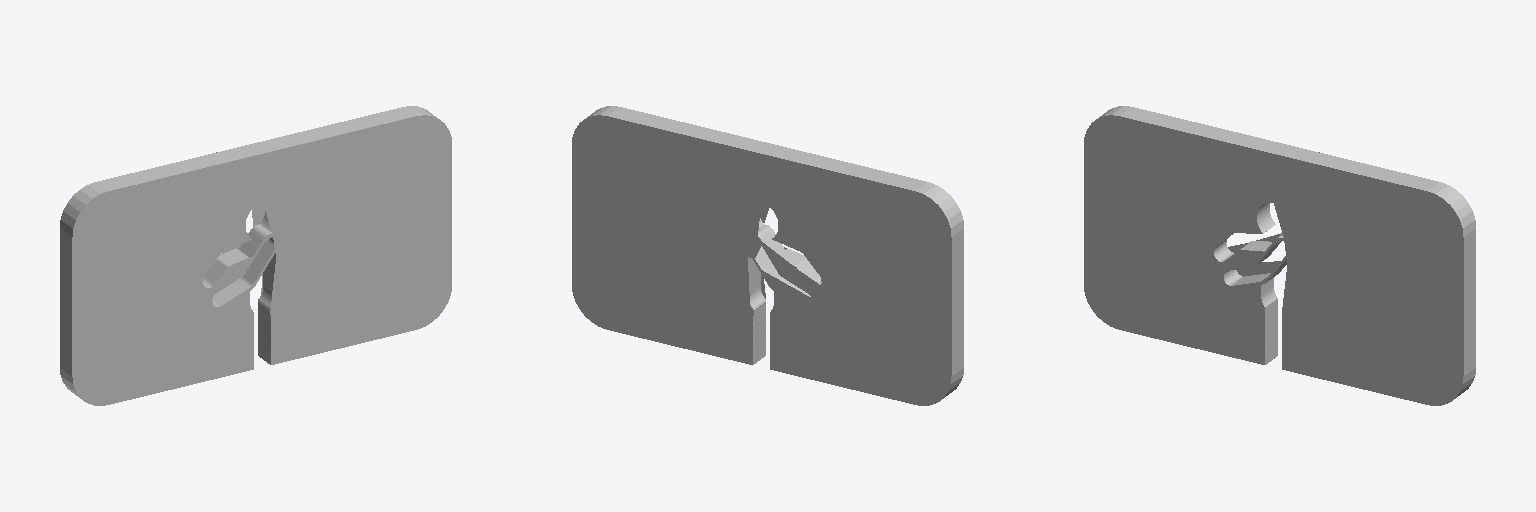
3 views of the same model, side by side, from view 1: azimuth 30°, elevation 25°; view 2: azimuth 150°, elevation 25°; view 3: azimuth 330°, elevation 25° (orthographic).
Parts seen in each view (by area): view 1: wall_36; view 2: wall_36; view 3: wall_36.
Part boxes in pixels (bbox=[...]): wall_36: bbox=[60, 106, 451, 405]; wall_36: bbox=[572, 106, 963, 405]; wall_36: bbox=[1084, 106, 1475, 405].
Size of the model in its own units: 12 by 6.45 by 0.7.